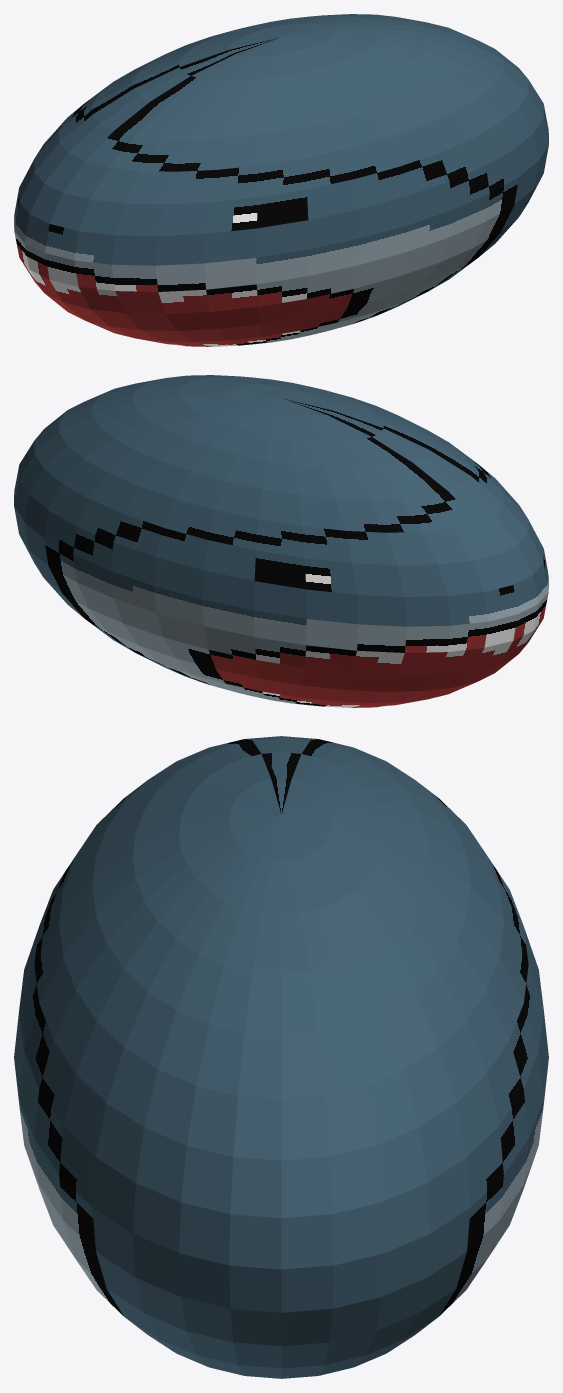
The model's file is player.obj.
3 renders of one model, top to bottom at view 1: azimuth 30°, elevation 25°; view 2: azimuth 150°, elevation 25°; view 3: azimuth 270°, elevation 25°, orthographic. The views are drawn at different scales.
Visible parts, largest first — view 1: 球; view 2: 球; view 3: 球.
Part boxes in pixels (x1=…): 球: x1=14, y1=14, x2=548, y2=346; 球: x1=14, y1=375, x2=548, y2=707; 球: x1=14, y1=736, x2=548, y2=1378.
Bounding box in the file's own units: 3.75 × 2 × 2.
1 material, 1 textured.
